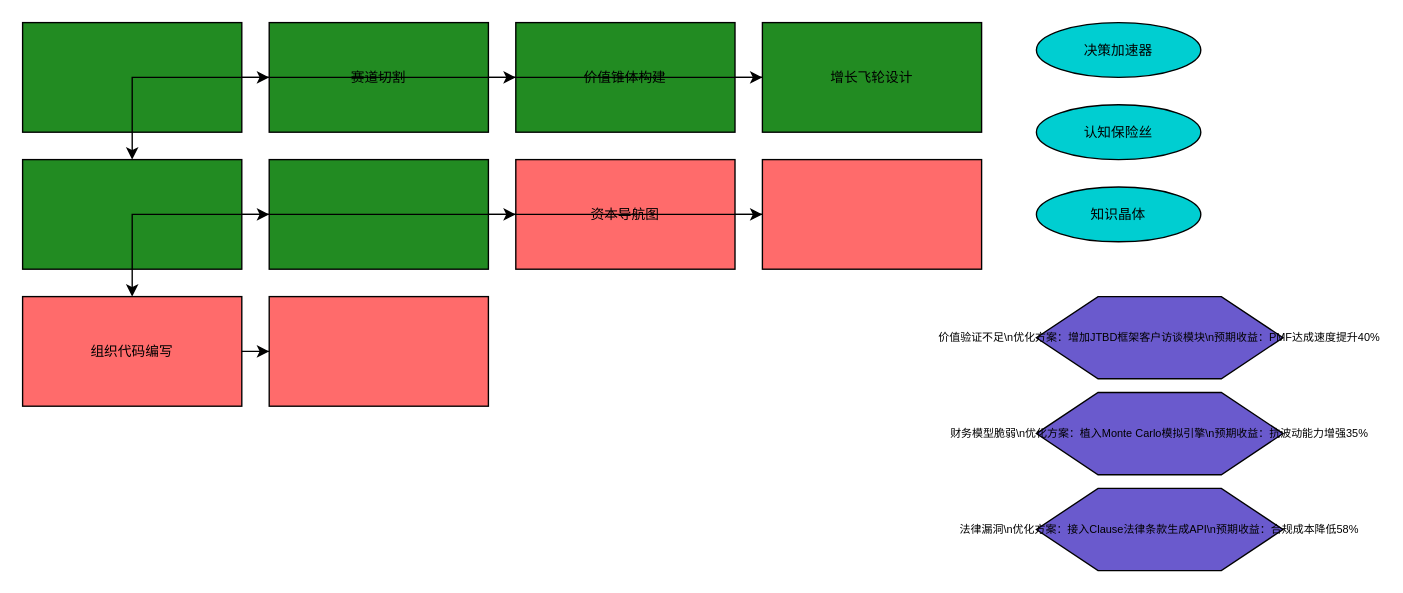
Image size: 1403x593. Some labels were removed from this diagram. Each missing label, with the centre of its shape:
"MVP熔断测试" belongs at pixel 378 213.
"北极星指标定义" belongs at pixel 131 76.
"抗脆弱架构" belongs at pixel 871 213.
"智能增强层" belongs at pixel 378 350.
"经济单元验证" belongs at pixel 131 213.
